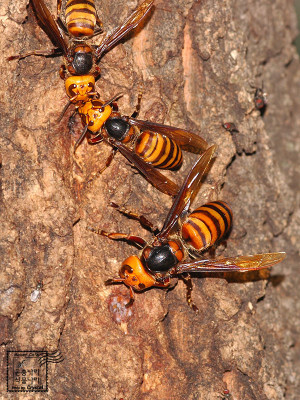asian_giant_hornet: (99, 151, 284, 318), (14, 1, 151, 128), (75, 90, 214, 198)
